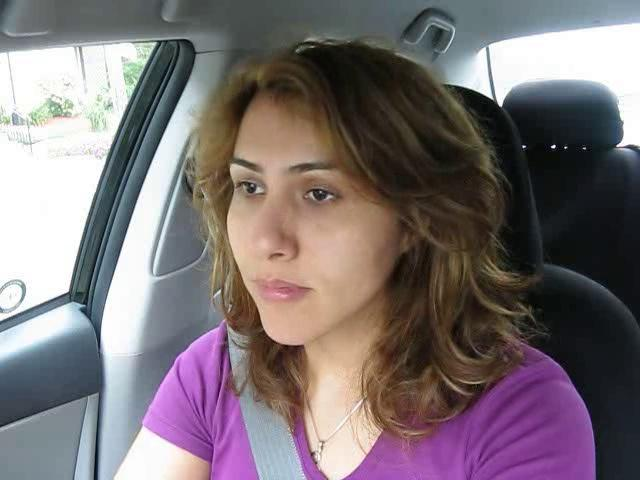no_yawn: (232, 267, 329, 317)
open_eyeL: (224, 169, 273, 206)
open_eyeR: (292, 176, 359, 214)
